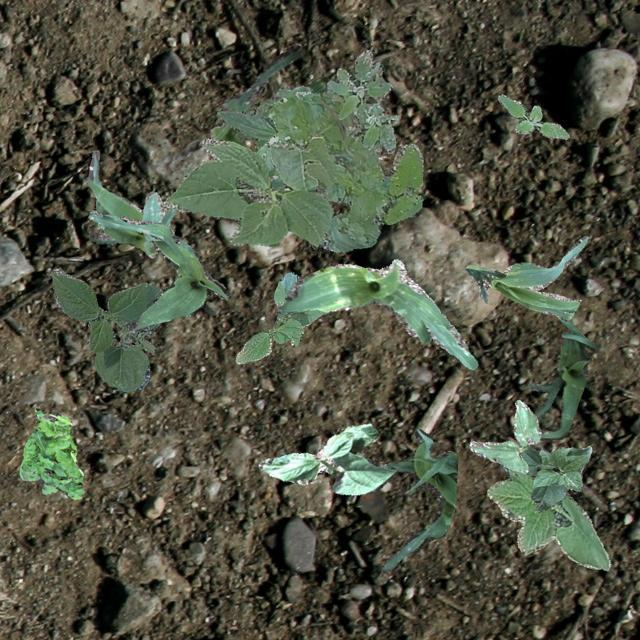crop: (274, 258, 476, 368), (160, 132, 334, 248), (88, 210, 230, 332), (50, 266, 162, 391), (486, 463, 610, 569), (208, 45, 326, 146), (378, 428, 456, 572), (464, 234, 588, 320), (216, 84, 312, 190), (84, 150, 176, 256), (258, 422, 394, 493), (526, 316, 596, 438), (235, 270, 326, 362), (468, 398, 540, 472), (520, 444, 590, 512)
weed: (255, 90, 422, 252), (324, 49, 398, 152), (18, 406, 82, 498), (496, 94, 568, 138)
